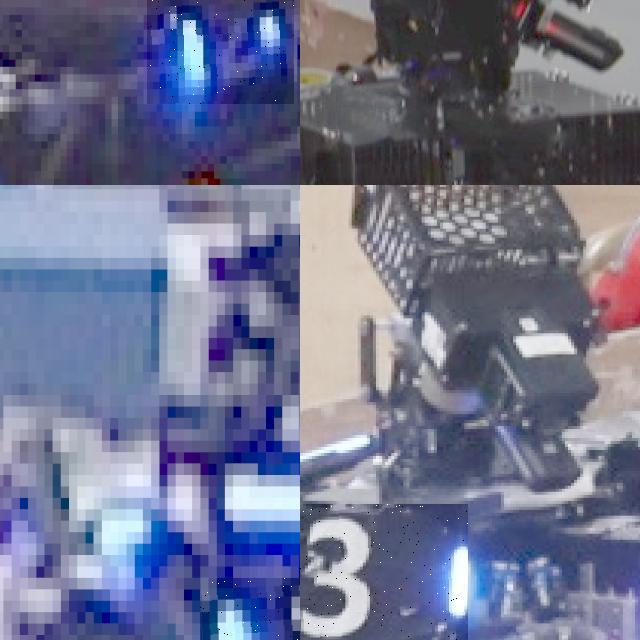B1: (200, 578, 300, 640)
B2: (147, 0, 294, 104)
B3: (300, 503, 467, 640)
